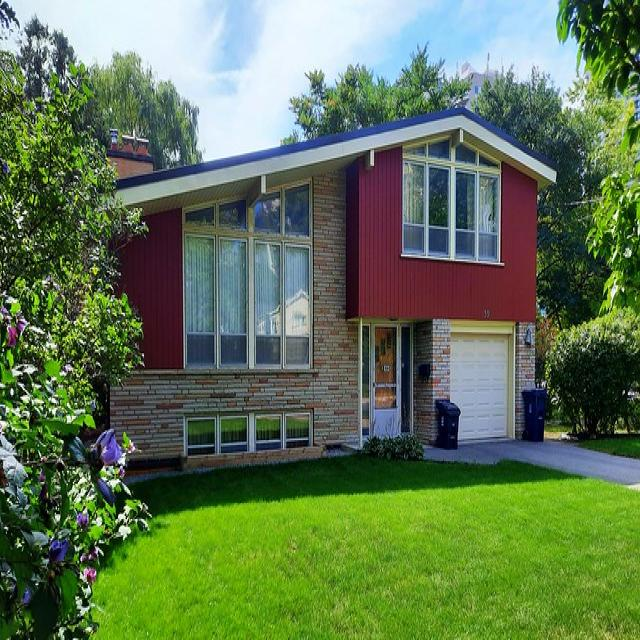building: (51, 101, 558, 465)
